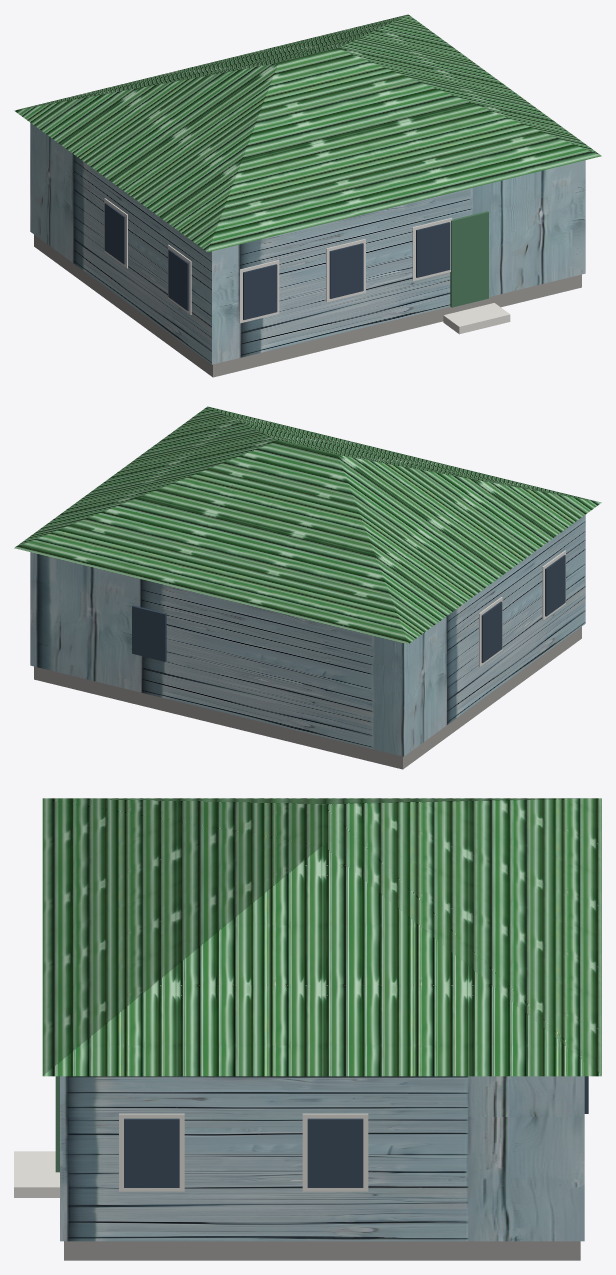
File: asset.glb
The picture shows the model from 3 angles, top to bottom: view 1: azimuth 30°, elevation 25°; view 2: azimuth 150°, elevation 25°; view 3: azimuth 270°, elevation 25°; orthographic projection. The views are drawn at different scales.
Visible parts, largest first — view 1: roof, body, foundation, door, win.001, win, win.002, step, win.004, win.003, win_trim, win_trim.001 (+1 smaller); view 2: roof, body, foundation, win.007, win.004, win.003; view 3: roof, body, foundation, win.006, win.005, step, win_trim.006, win_trim.005.
Boxes of the visible parts, box(x1,y1,x2,y2) form: roof: box(14, 14, 601, 252); body: box(30, 123, 585, 364); foundation: box(34, 234, 581, 377); door: box(450, 211, 488, 307); win.001: box(329, 243, 363, 298); win: box(243, 264, 277, 319); win.002: box(416, 222, 450, 277); step: box(443, 303, 510, 334); win.004: box(104, 203, 125, 264); win.003: box(168, 249, 188, 310); win_trim: box(239, 260, 279, 323); win_trim.001: box(326, 239, 365, 302); roof: box(14, 406, 601, 644); body: box(30, 515, 585, 756); foundation: box(34, 626, 581, 769); win.007: box(132, 605, 166, 661); win.004: box(481, 601, 502, 662); win.003: box(545, 555, 565, 616); roof: box(42, 798, 601, 1076); body: box(60, 1076, 584, 1241); foundation: box(64, 1241, 580, 1260); win.006: box(307, 1118, 363, 1187); win.005: box(124, 1118, 179, 1187); step: box(14, 1151, 59, 1197); win_trim.006: box(302, 1113, 368, 1191); win_trim.005: box(119, 1113, 184, 1191).
Bounding box in the file's own units: 10.03 × 5.14 × 8.96.
6 materials, 2 textured.
